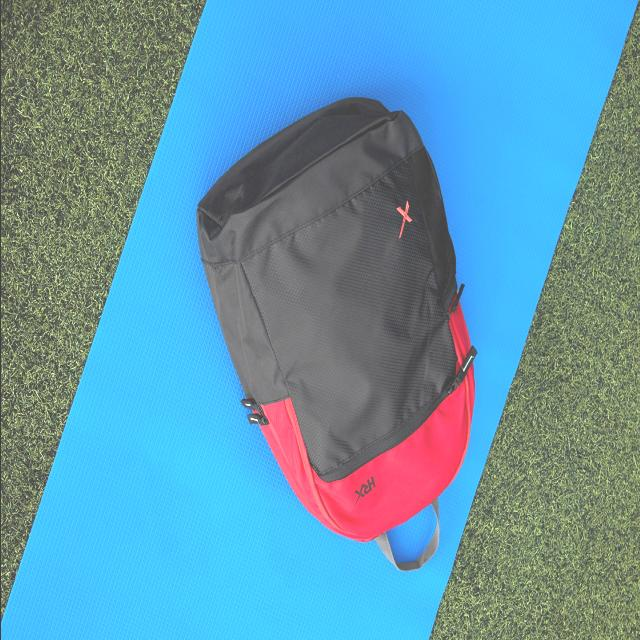backpack: (197, 96, 479, 572)
